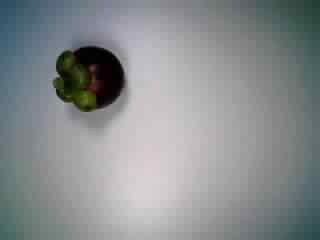mangosteen: (48, 42, 131, 117)
